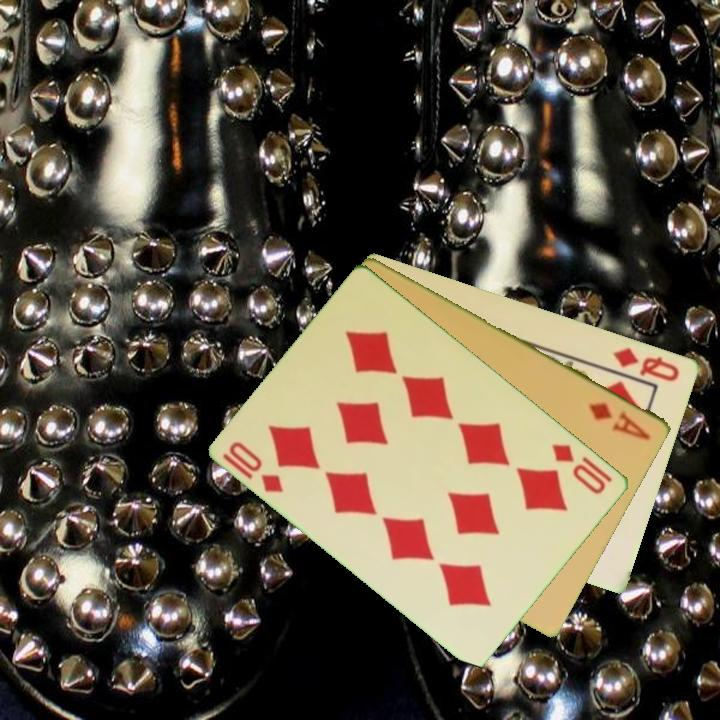10d: (548, 439, 610, 498), (226, 437, 287, 496)
Ad: (585, 398, 654, 443)
Qd: (609, 343, 683, 384)
